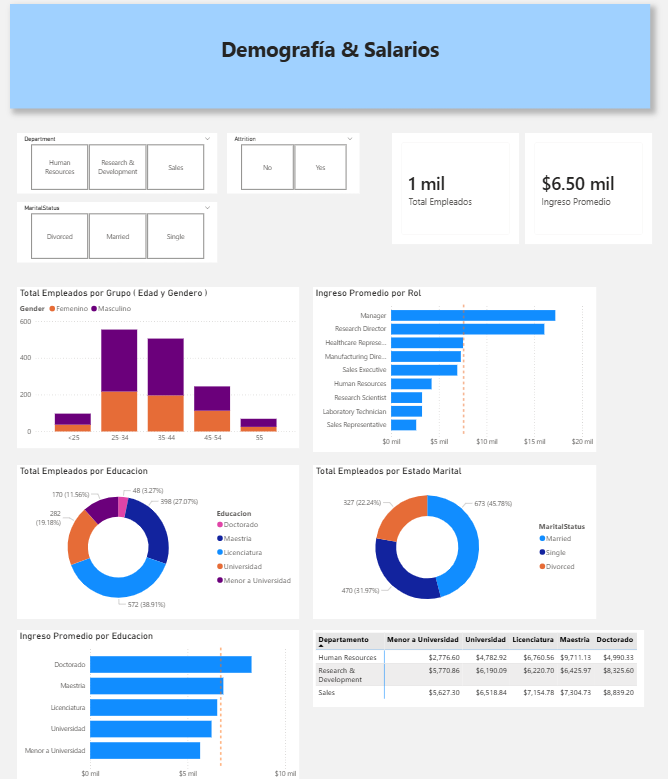

The dashboard page shown, as its layout file describes it:
{"tool":"powerbi","page":{"name":"Demografia & Salarios","canvas":[1250,1450],"ordinal":2},"visuals":[{"type":"columnChart","title":"Total Empleados por Grupo ( Edad y Gendero )","fields":{"Category":["WA_Fn-UseC_-HR-Employee-Attrition.Grupo_Edad"],"Y":["Medidas.Total_Empleados"],"Series":["WA_Fn-UseC_-HR-Employee-Attrition.Gender"]},"box":[33,547,513,293],"z":0},{"type":"donutChart","title":"Total Empleados por Educacion","fields":{"Y":["Medidas.Total_Empleados"],"Category":["Dim_Educacion.Educacion"]},"box":[33,870,513,280],"z":1000},{"type":"donutChart","title":"Total Empleados por Estado Marital","fields":{"Y":["Medidas.Total_Empleados"],"Category":["WA_Fn-UseC_-HR-Employee-Attrition.MaritalStatus"]},"box":[570.9,870.9,514.5,280],"z":2000},{"type":"clusteredBarChart","title":"Ingreso Promedio por Rol","fields":{"Category":["WA_Fn-UseC_-HR-Employee-Attrition.JobRole"],"Y":["Medidas.Ingreso_Prom"]},"box":[570.9,547.3,514.5,300],"z":3000},{"type":"clusteredBarChart","title":"Ingreso Promedio por Educacion","fields":{"Category":["Dim_Educacion.Educacion"],"Y":["Medidas.Ingreso_Prom"]},"box":[32.5,1170,512.5,280],"z":4000},{"type":"pivotTable","fields":{"Values":["Medidas.Ingreso_Prom"],"Rows":["WA_Fn-UseC_-HR-Employee-Attrition.Department"],"Columns":["Dim_Educacion.Educacion"]},"box":[570.9,1170.9,601.8,140],"z":5000},{"type":"slicer","fields":{"Values":["WA_Fn-UseC_-HR-Employee-Attrition.Department"]},"box":[33,268,364,110],"z":6000},{"type":"slicer","fields":{"Values":["WA_Fn-UseC_-HR-Employee-Attrition.Attrition"]},"box":[415,268,241,110],"z":7000},{"type":"textbox","box":[20,32.5,1163.8,190],"z":8000},{"type":"slicer","fields":{"Values":["WA_Fn-UseC_-HR-Employee-Attrition.MaritalStatus"]},"box":[33,392,364,110],"z":9000},{"type":"cardVisual","fields":{"Data":["Medidas.Total_Empleados"]},"box":[714,268,231,202],"z":10000},{"type":"cardVisual","fields":{"Data":["Medidas.Ingreso_Prom"]},"box":[956,268,231,202],"z":11000}]}

Visuals, with their boxes in screenshot pixels (x1, y1, x2, y2), scaled from the page's 1250x1450 canvas onto the 668x779 screenshot:
"Total Empleados por Grupo ( Edad y Gendero )" columnChart: [18, 294, 292, 451]
"Total Empleados por Educacion" donutChart: [18, 467, 292, 618]
"Total Empleados por Estado Marital" donutChart: [305, 468, 580, 618]
"Ingreso Promedio por Rol" clusteredBarChart: [305, 294, 580, 455]
"Ingreso Promedio por Educacion" clusteredBarChart: [17, 629, 291, 778]
pivotTable - Medidas.Ingreso_Prom x WA_Fn-UseC_-HR-Employee-Attrition.Department: [305, 629, 627, 704]
slicer - WA_Fn-UseC_-HR-Employee-Attrition.Department: [18, 144, 212, 203]
slicer - WA_Fn-UseC_-HR-Employee-Attrition.Attrition: [222, 144, 351, 203]
textbox: [11, 17, 633, 120]
slicer - WA_Fn-UseC_-HR-Employee-Attrition.MaritalStatus: [18, 211, 212, 270]
cardVisual - Medidas.Total_Empleados: [382, 144, 505, 253]
cardVisual - Medidas.Ingreso_Prom: [511, 144, 634, 253]
